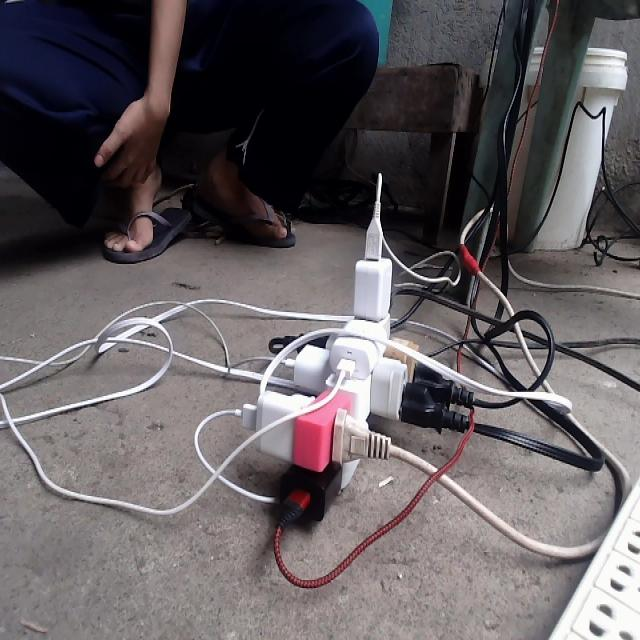-: (240, 252, 445, 519)
